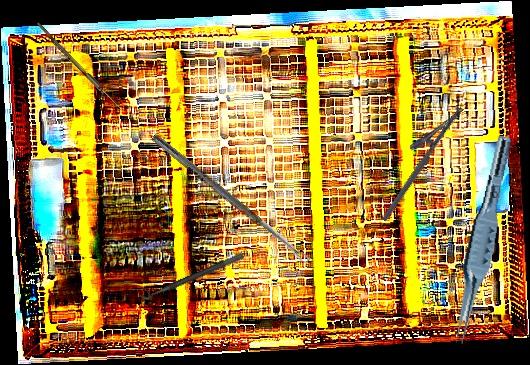Fixation Ring: (136, 243, 245, 303)
Needle Holder: (366, 96, 465, 222)
Surgical Spoon: (150, 133, 311, 266), (34, 21, 127, 115)
Tissue Forceps: (448, 133, 514, 347)
